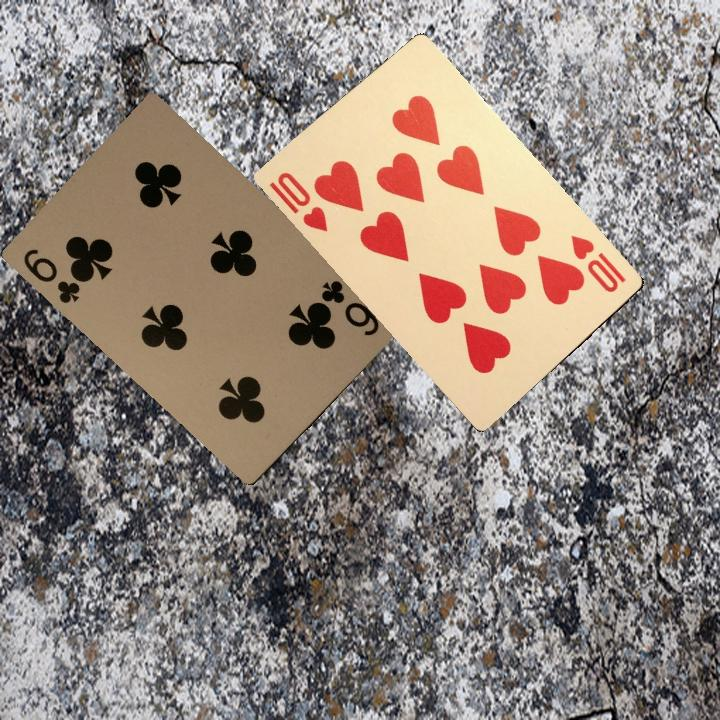10h: (265, 167, 330, 234), (566, 231, 629, 296)
6c: (316, 275, 382, 339), (19, 244, 83, 307)
